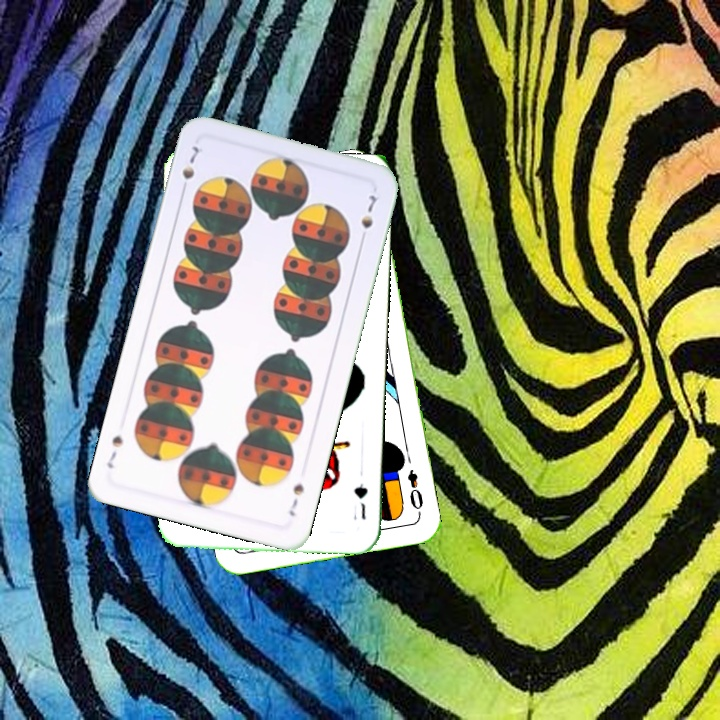EO: (403, 465, 426, 517)
GU: (350, 479, 370, 522)
S7: (177, 141, 202, 197), (285, 479, 307, 519)
